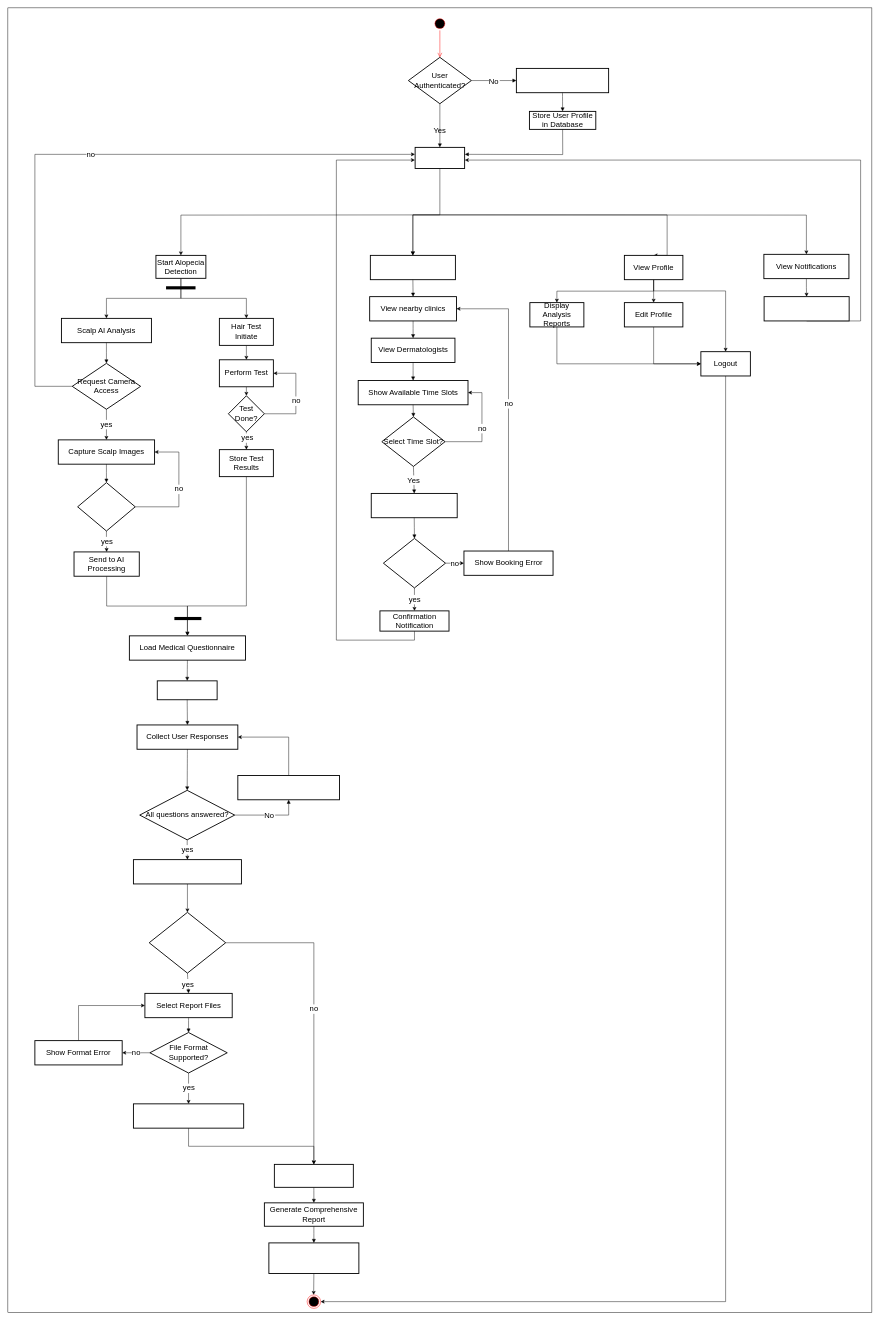
Image size: 880x1320. Some labels were removed from this diagram. Each missing label, with the centre of its shape:
"Book Appointment" belongs at (x=414, y=505).
"Booking Confirmed?" belongs at (x=414, y=563).
"Create New Account" belongs at (x=562, y=80).
"Display Diagnosis & Recommendations" belongs at (x=313, y=1258).
"Display Questions" belongs at (x=187, y=690).
"Highlight missing questions" belongs at (x=288, y=787).
"Image Quality Acceptable?" belongs at (x=106, y=506).
"Integrate ALL Data Sources" belongs at (x=314, y=1176).
"Proceed to Dashboard" belongs at (x=439, y=158).
"Read Notifications" belongs at (x=806, y=308).
"Search Dermatologists" belongs at (x=413, y=267).
"Store Questionnaire Data" belongs at (x=187, y=871).
"Store Reports in Database" belongs at (x=188, y=1115).
"Upload Medical Reports?" belongs at (x=187, y=942).
